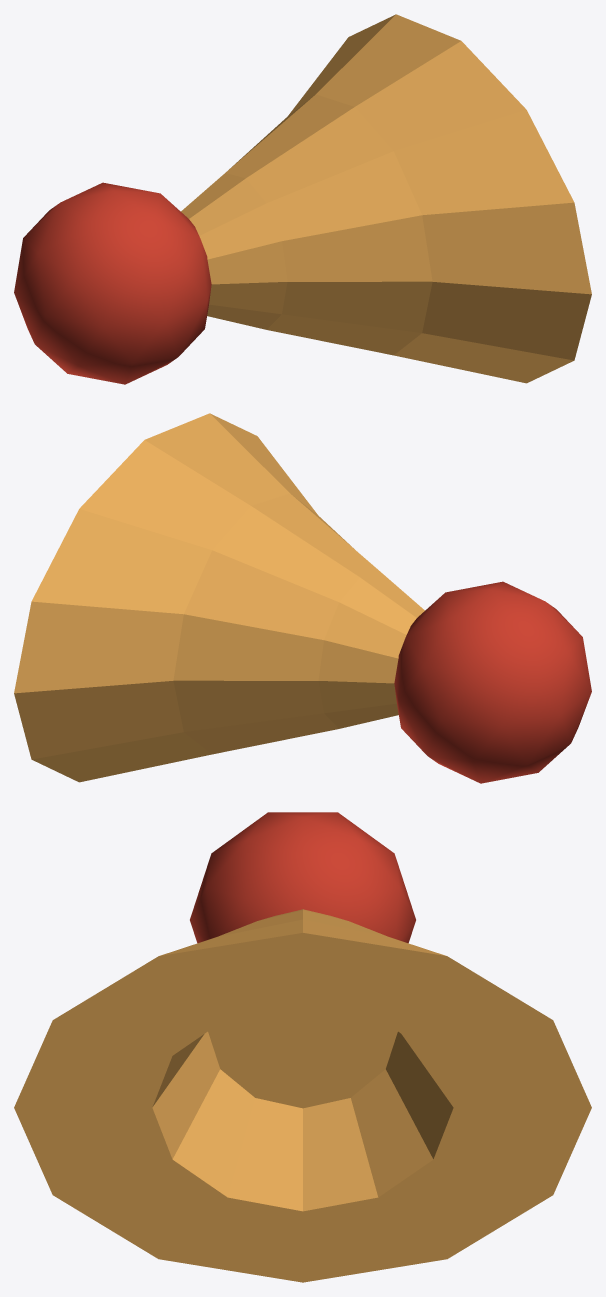
The model's file is Horn.glb.
3 renders of one model, top to bottom at view 1: azimuth 30°, elevation 25°; view 2: azimuth 150°, elevation 25°; view 3: azimuth 270°, elevation 25°, orthographic. The views are drawn at different scales.
Parts seen in each view (by area): view 1: Horn; view 2: Horn; view 3: Horn.
Part boxes in pixels (x1,y1,x2,y2): Horn: (14,14,591,384); Horn: (14,413,591,783); Horn: (14,812,591,1282).
Bounding box in the file's own units: 1.65 × 1.15 × 1.72.
